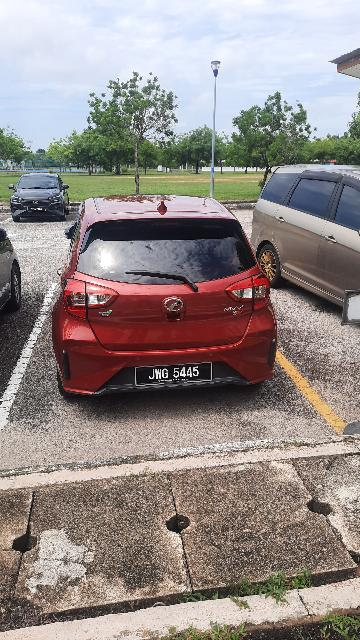License_Plate: (132, 362, 221, 384)
car: (54, 192, 286, 400)
